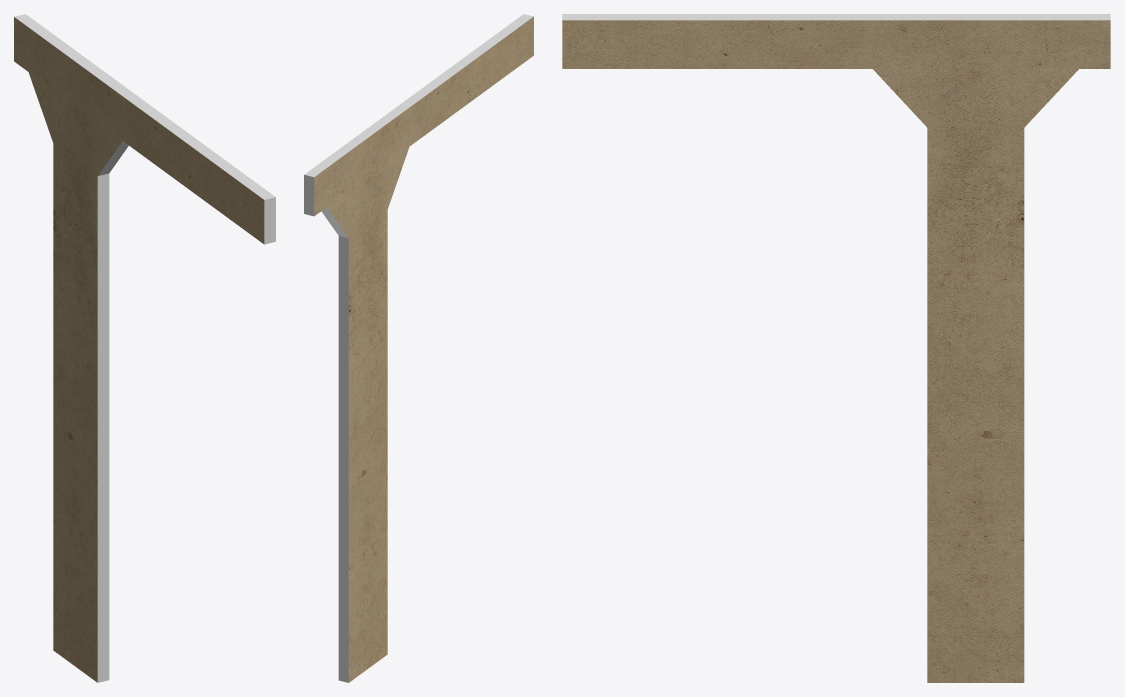
Rendered from Cardboard_Support_01.fbx.
3 views of the same model, side by side, from view 1: azimuth 30°, elevation 25°; view 2: azimuth 150°, elevation 25°; view 3: azimuth 270°, elevation 25° (orthographic). The views are drawn at different scales.
Visible parts, largest first — view 1: Cardboard_Support_01; view 2: Cardboard_Support_01; view 3: Cardboard_Support_01.
Part boxes in pixels (box(x1,y1,x2,y2)): Cardboard_Support_01: box(14, 14, 275, 682); Cardboard_Support_01: box(304, 14, 533, 682); Cardboard_Support_01: box(562, 14, 1110, 682).
Size of the model in its own units: 5.31 by 265 by 199.
